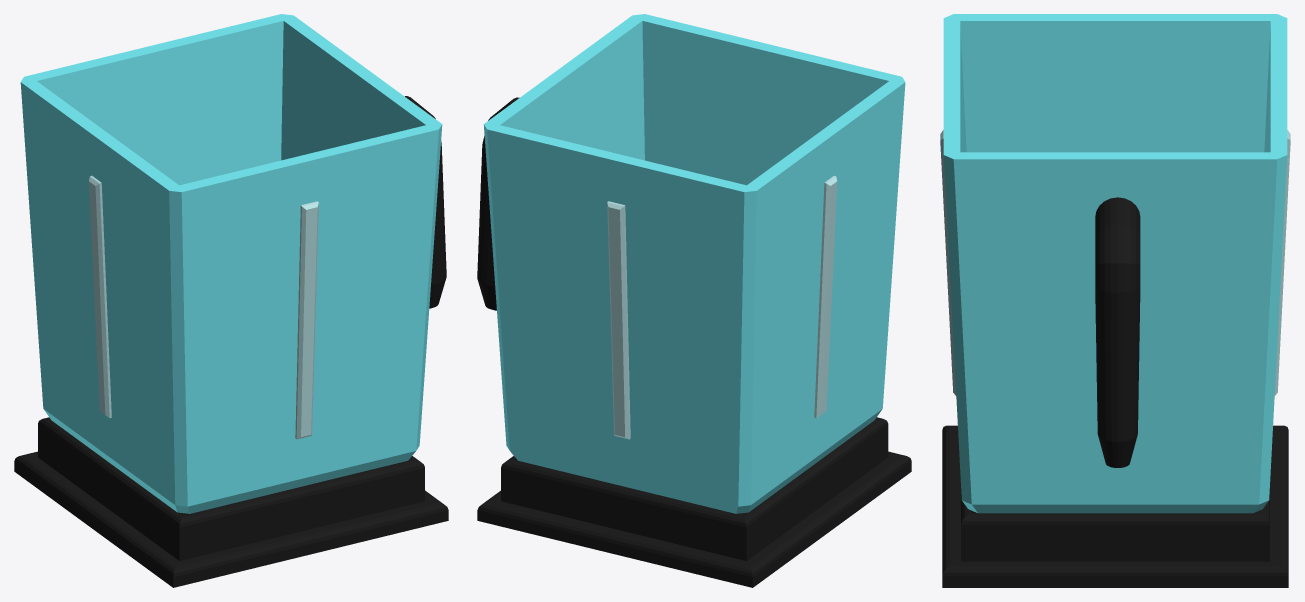
Rendered from BlenderGlass.fbx.
The picture shows the model from 3 angles, left to right: view 1: azimuth 30°, elevation 25°; view 2: azimuth 150°, elevation 25°; view 3: azimuth 270°, elevation 25°; orthographic projection. The views are drawn at different scales.
Parts seen in each view (by area): view 1: BlenderGlass; view 2: BlenderGlass; view 3: BlenderGlass.
Part boxes in pixels (x1,y1,x2,y2): BlenderGlass: [14, 14, 448, 587]; BlenderGlass: [477, 14, 911, 587]; BlenderGlass: [940, 14, 1290, 587].
Size of the model in its own units: 177 by 188 by 139.
